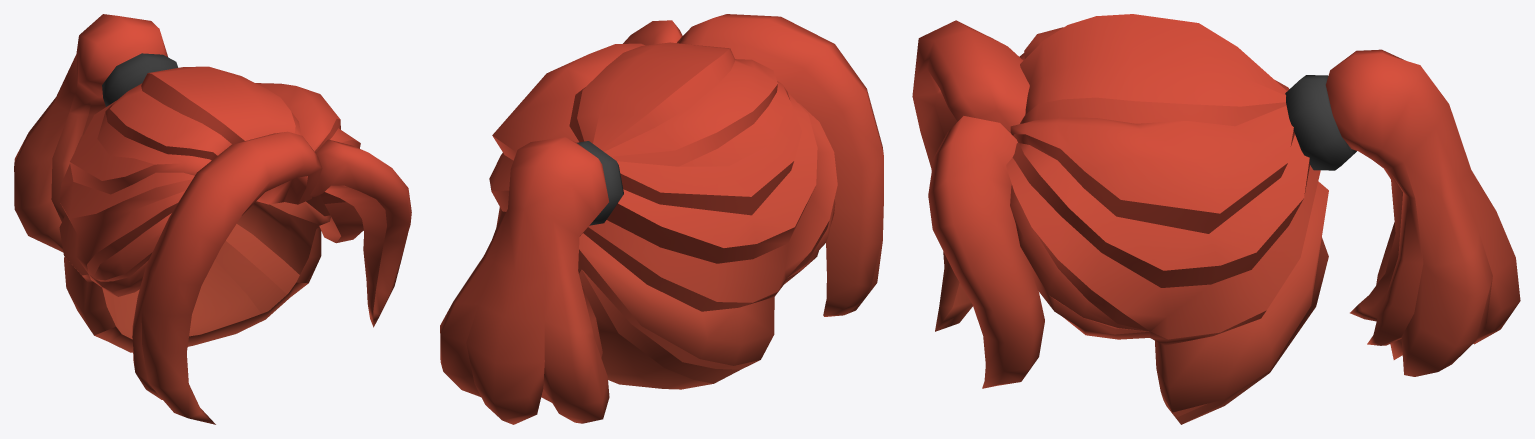
Rendered from Hair_28.fbx.
The picture shows the model from 3 angles, left to right: view 1: azimuth 30°, elevation 25°; view 2: azimuth 150°, elevation 25°; view 3: azimuth 270°, elevation 25°; orthographic projection. The views are drawn at different scales.
Parts seen in each view (by area): view 1: Hair_28; view 2: Hair_28; view 3: Hair_28.
Part boxes in pixels (x1,y1,x2,y2): Hair_28: (14, 14, 411, 424); Hair_28: (440, 14, 883, 424); Hair_28: (912, 14, 1520, 424).
Bounding box in the file's own units: 58.53 × 56.62 × 86.85.
